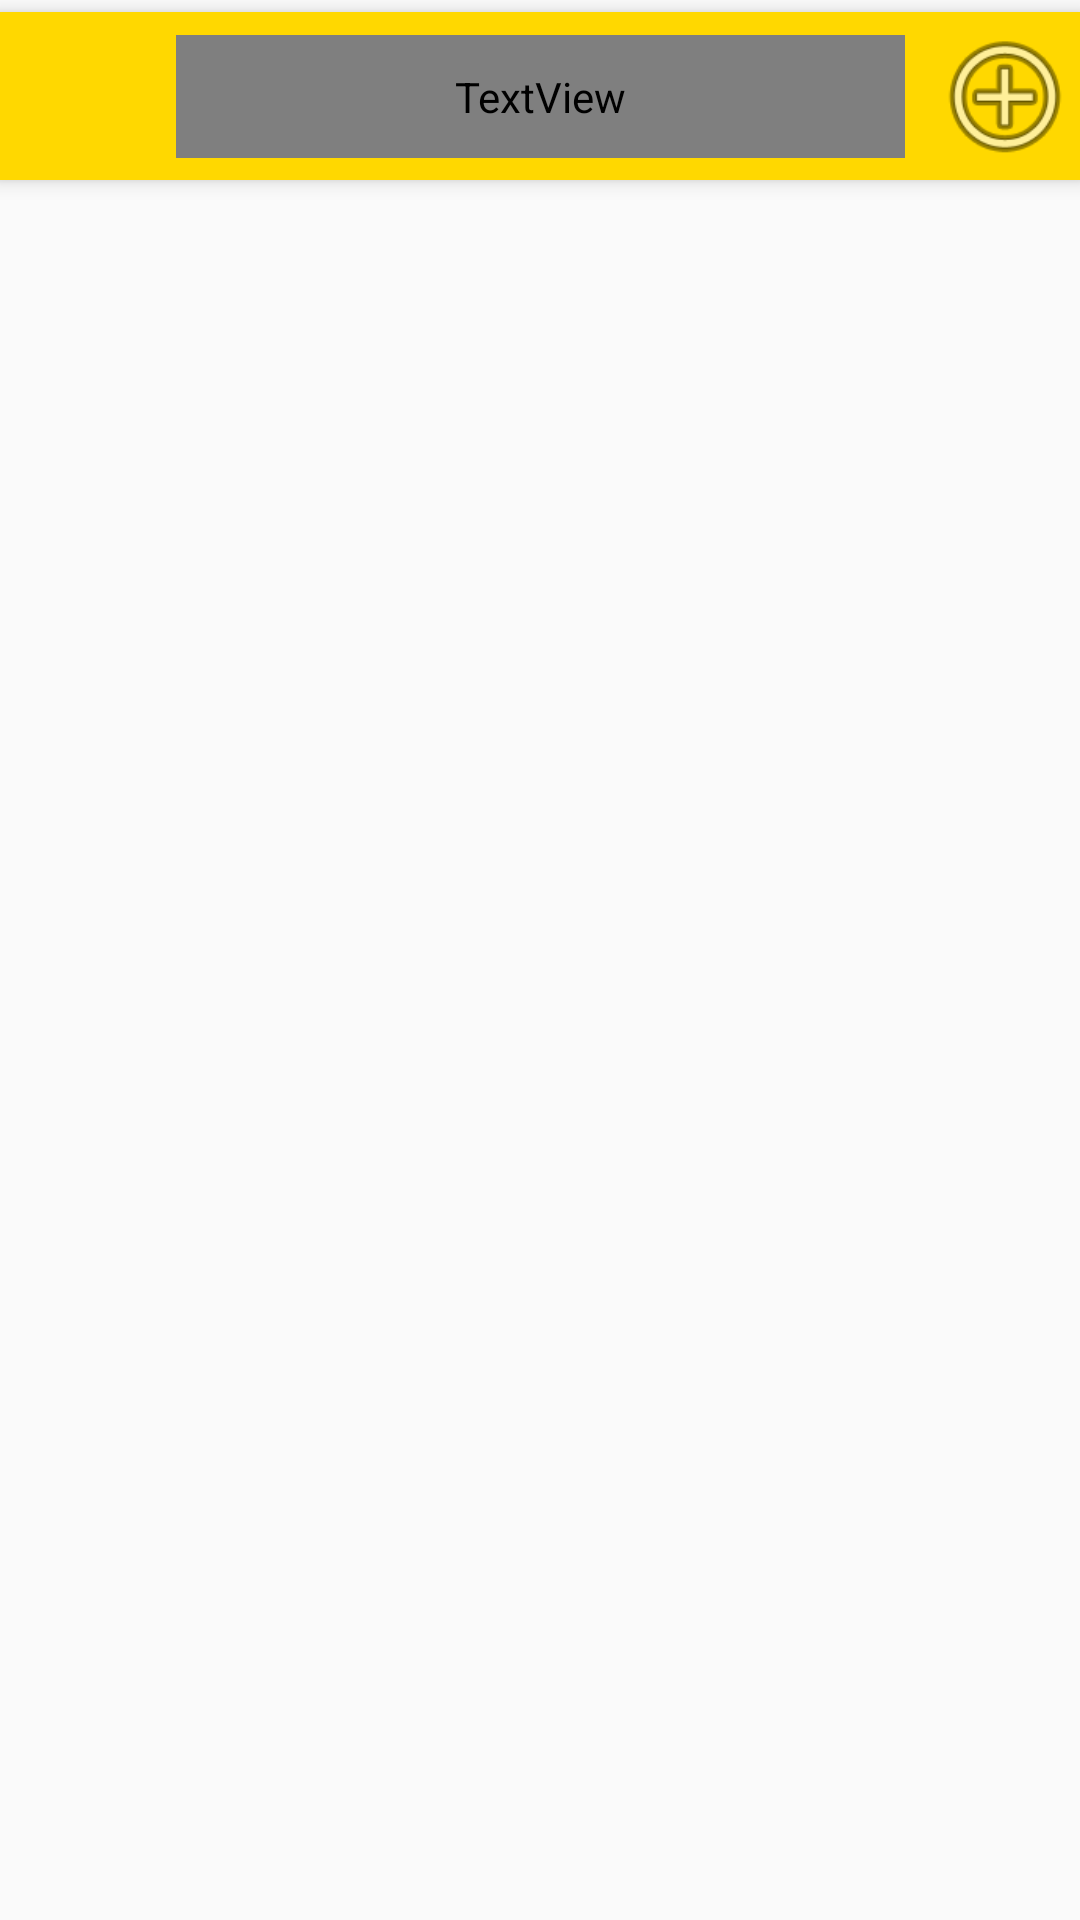

Where to tap for icons on this 1080 × 1920 app screen, as (x,y):
add: (1005,97)
